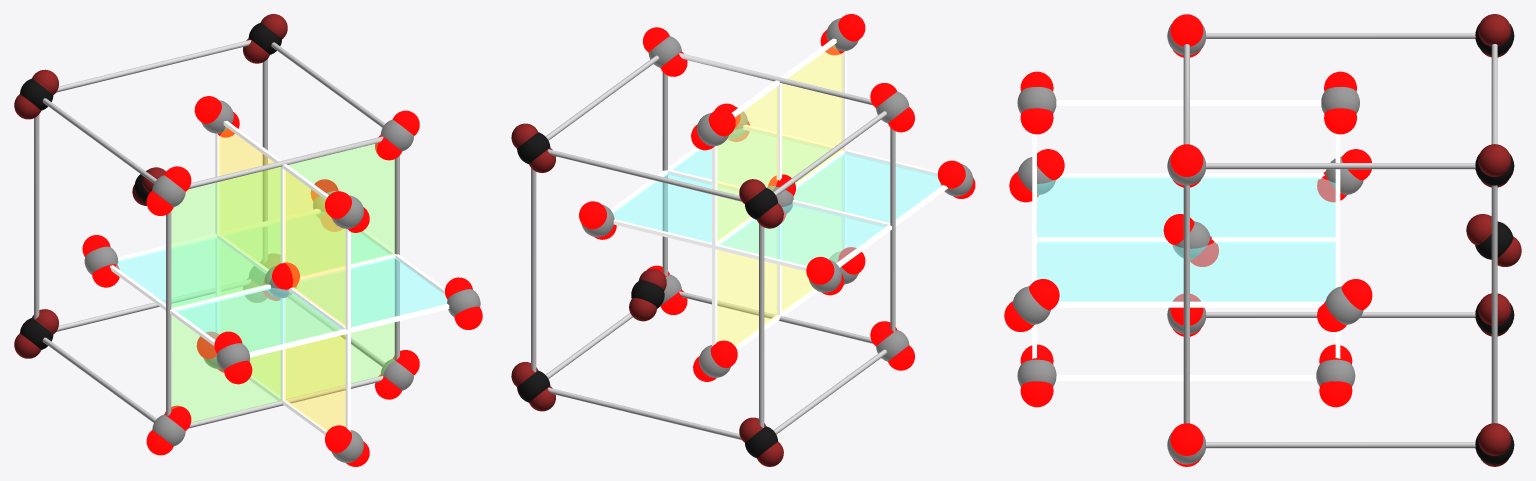
The picture shows the model from 3 angles, left to right: view 1: azimuth 30°, elevation 25°; view 2: azimuth 150°, elevation 25°; view 3: azimuth 270°, elevation 25°; orthographic projection. The views are drawn at different scales.
Parts seen in each view (by area): view 1: plane_green, plane_blue, plane_cheng, yuan, co2_highlight, window_frame; view 2: plane_cheng, plane_blue, yuan, co2_highlight, window_frame; view 3: plane_blue, co2_highlight, yuan, window_frame.
Part boxes in pixels (x1,y1,x2,y2): plane_green: (171,143,394,422); plane_blue: (115,212,447,351); plane_cheng: (219,127,345,430); yuan: (14,14,399,428); co2_highlight: (82,96,482,466); window_frame: (110,121,449,435); plane_cheng: (717,44,842,346); plane_blue: (613,128,942,265); yuan: (511,53,895,466); co2_highlight: (579,14,975,381); window_frame: (610,38,947,350); plane_blue: (1037,177,1335,301); co2_highlight: (1004,14,1372,466); yuan: (1183,14,1521,466); window_frame: (1032,100,1340,380).
Size of the model in its own units: 99.09 by 99.07 by 141.
